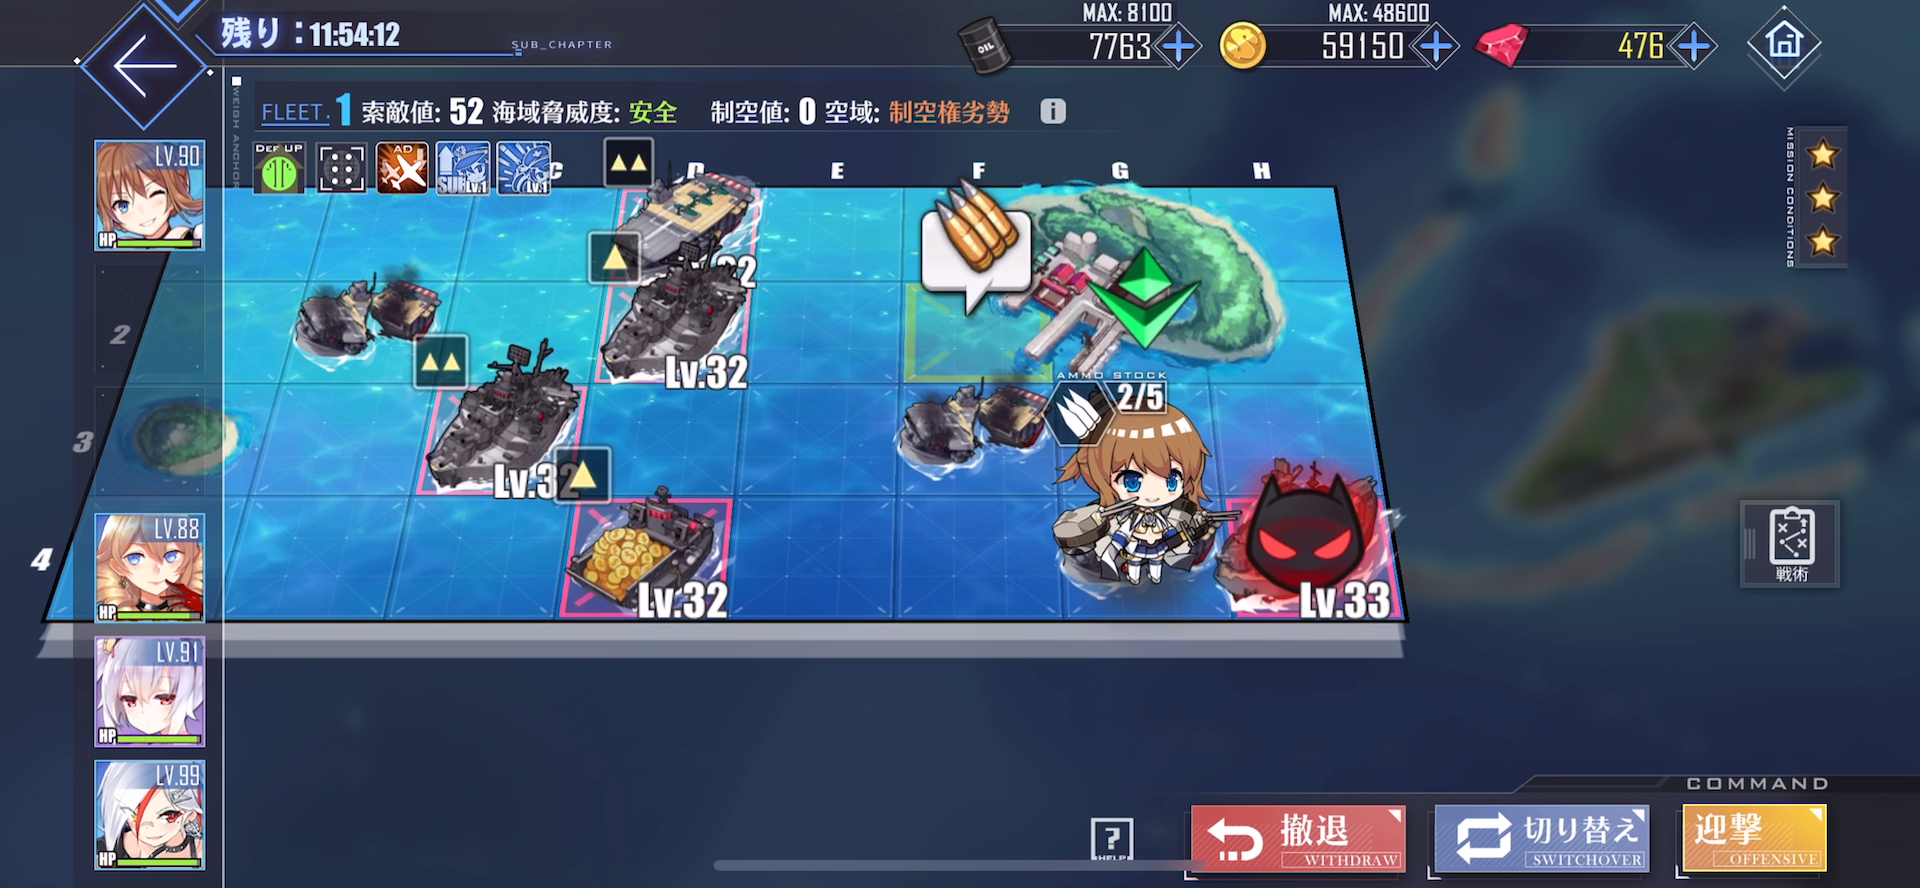boss: (1221, 465, 1393, 621)
